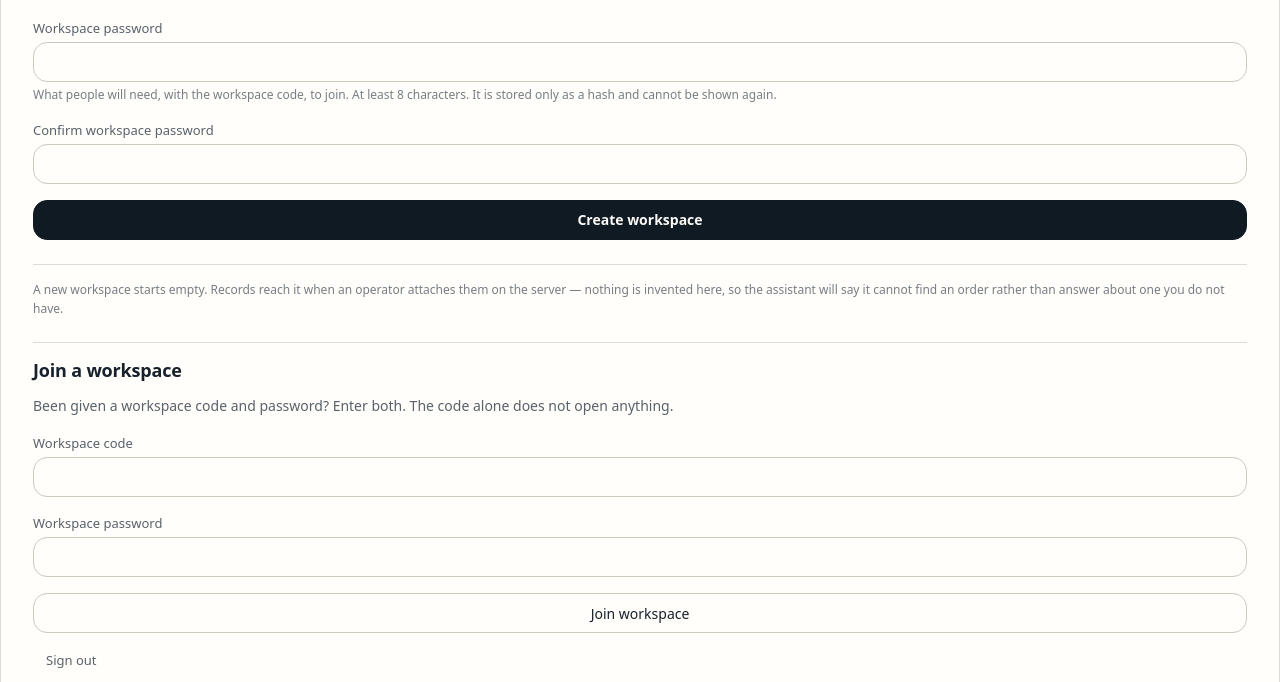
Test: joining a workspace › shows the server's refusal under the join form
(page scrolled)
Type "ZZZZZZZZZZ" into the field labelled "Workspace code". click: point(640, 477)
box: [33,457,1247,497]
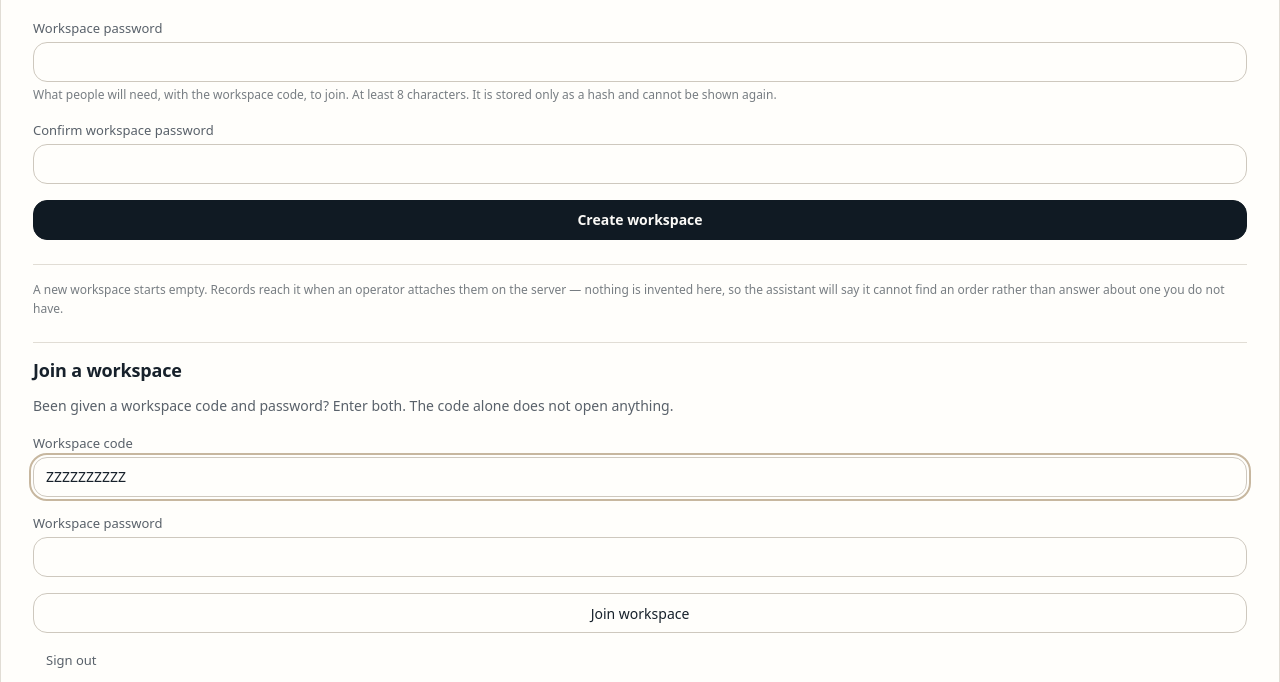
Type "not-the-password" into the password field labelled "Workspace password" below "Join a workspace". click: point(640, 557)
box: [33,537,1247,577]
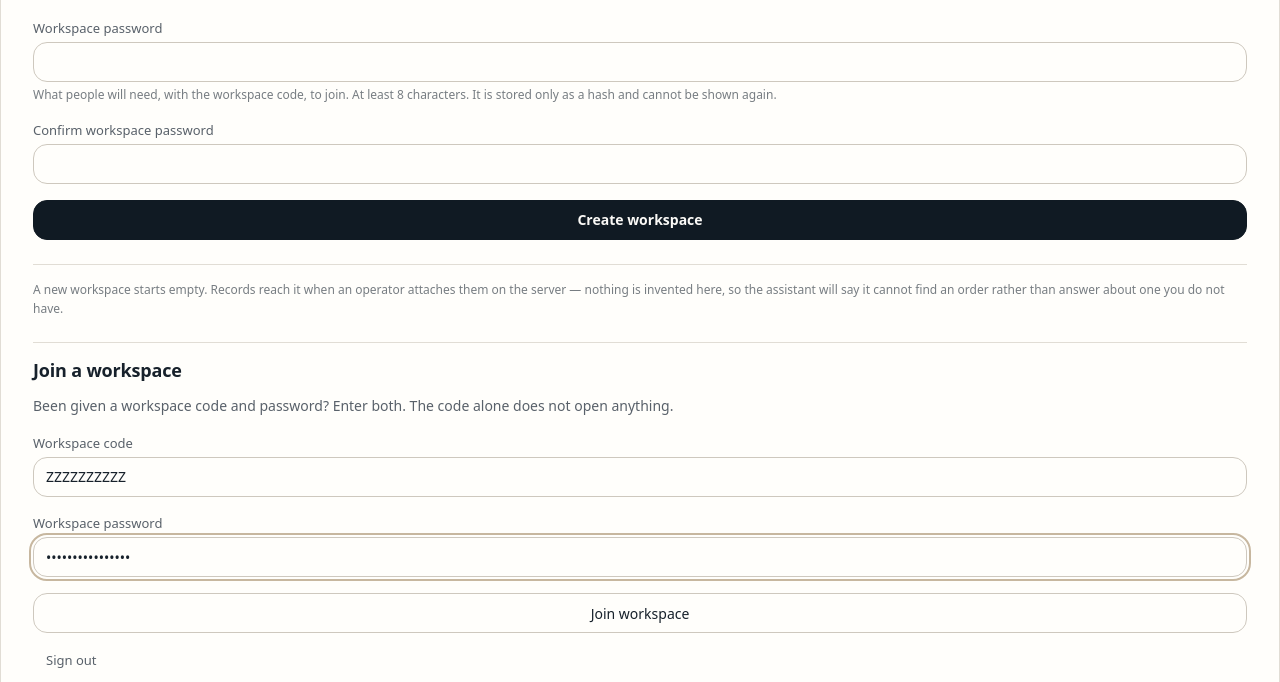
Click the button "Join workspace". click: point(640, 613)
box: [33,593,1247,633]
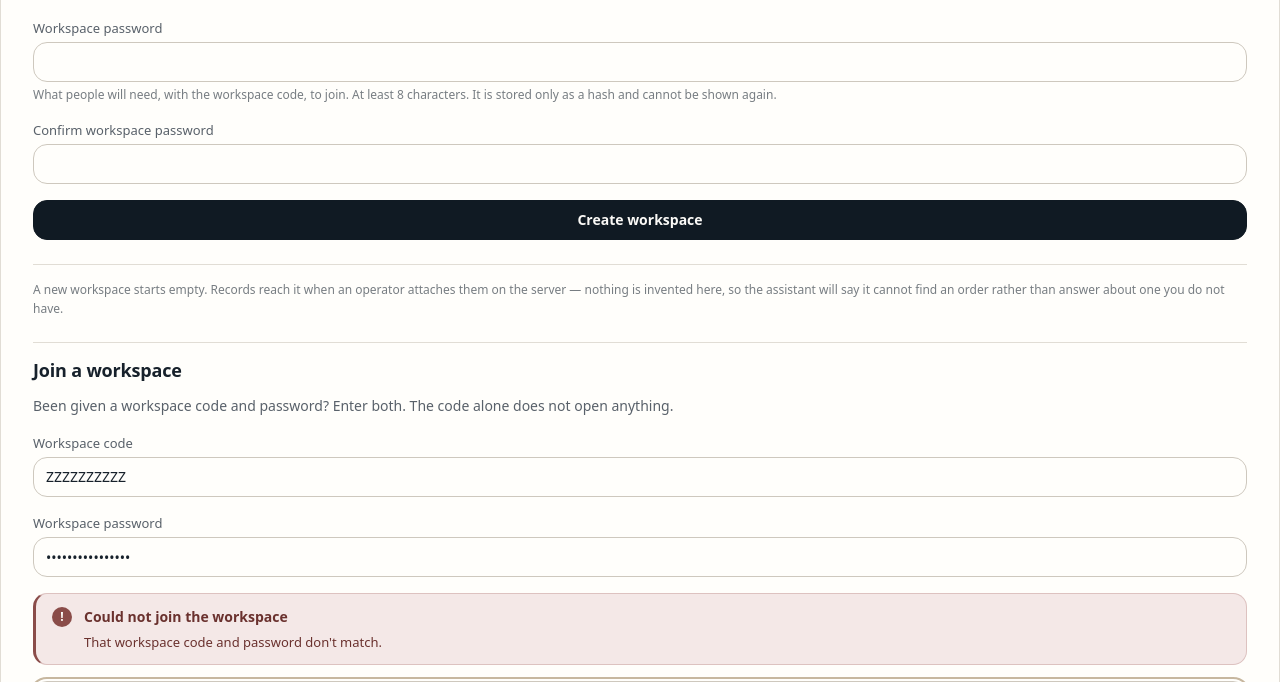
expect the message shows "That workspace code and password don't match.": met, box [84,633,382,651]
